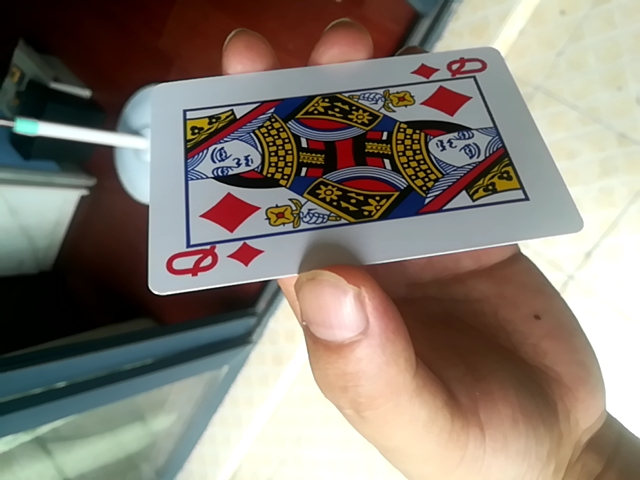fk q: (141, 41, 586, 301)
